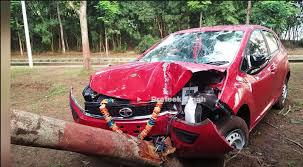Front-Windscreen-Damage: (167, 30, 241, 62)
bonnet-dent: (93, 61, 227, 110)
front-bumper-dent: (152, 111, 231, 154)
